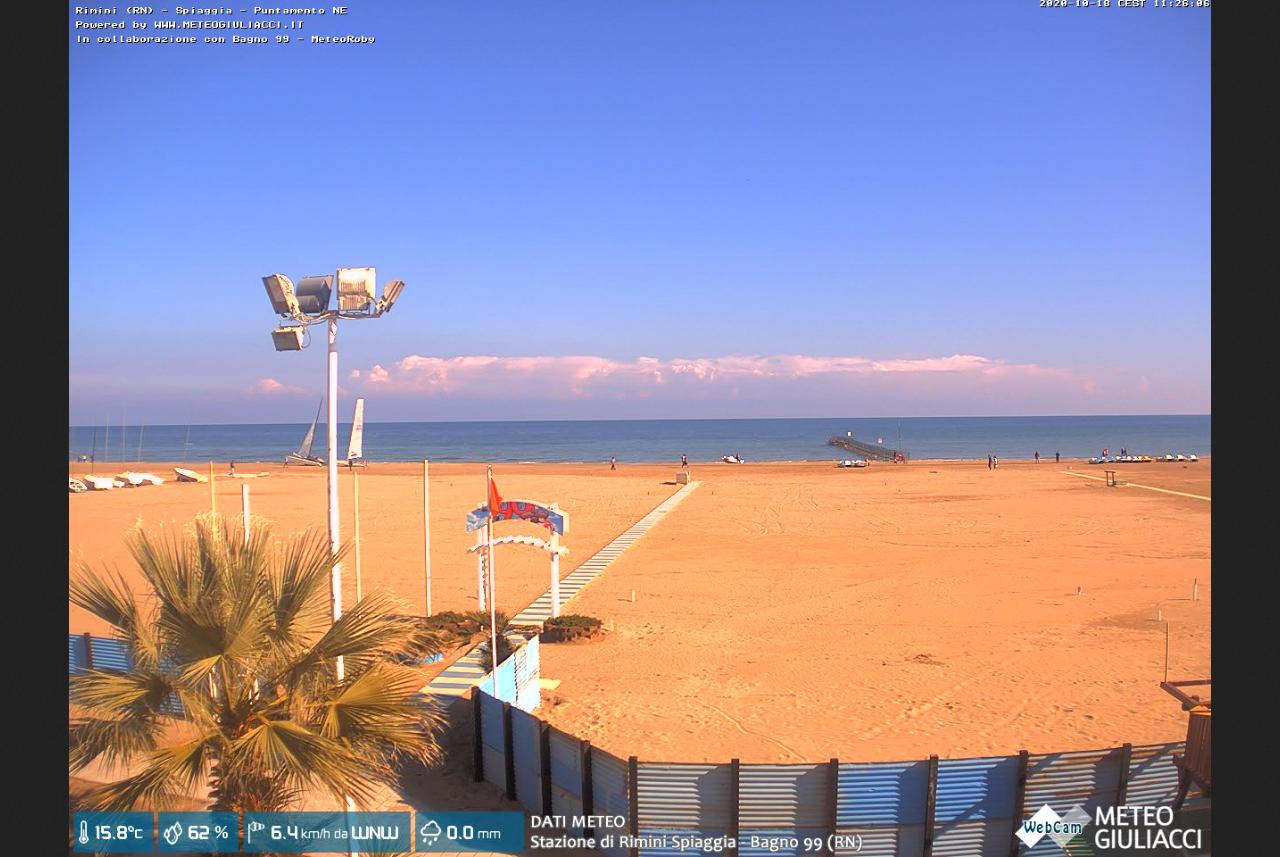no: (483, 463, 504, 518)
